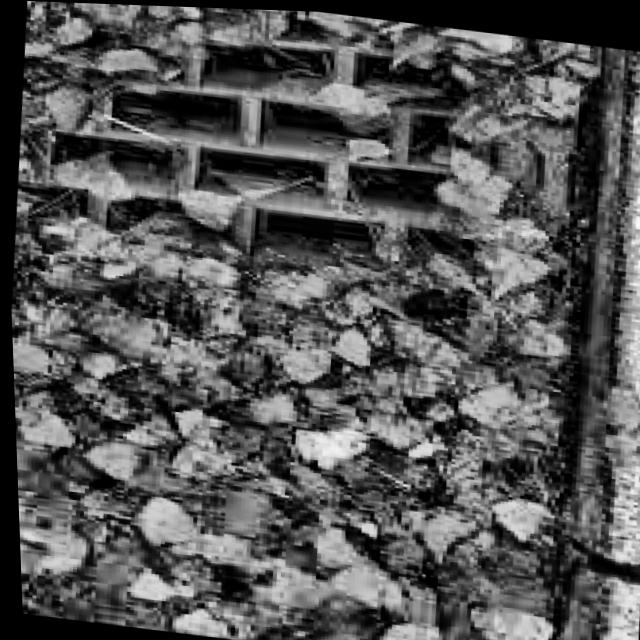clogged_drains: (0, 0, 481, 604), (115, 89, 350, 142)
